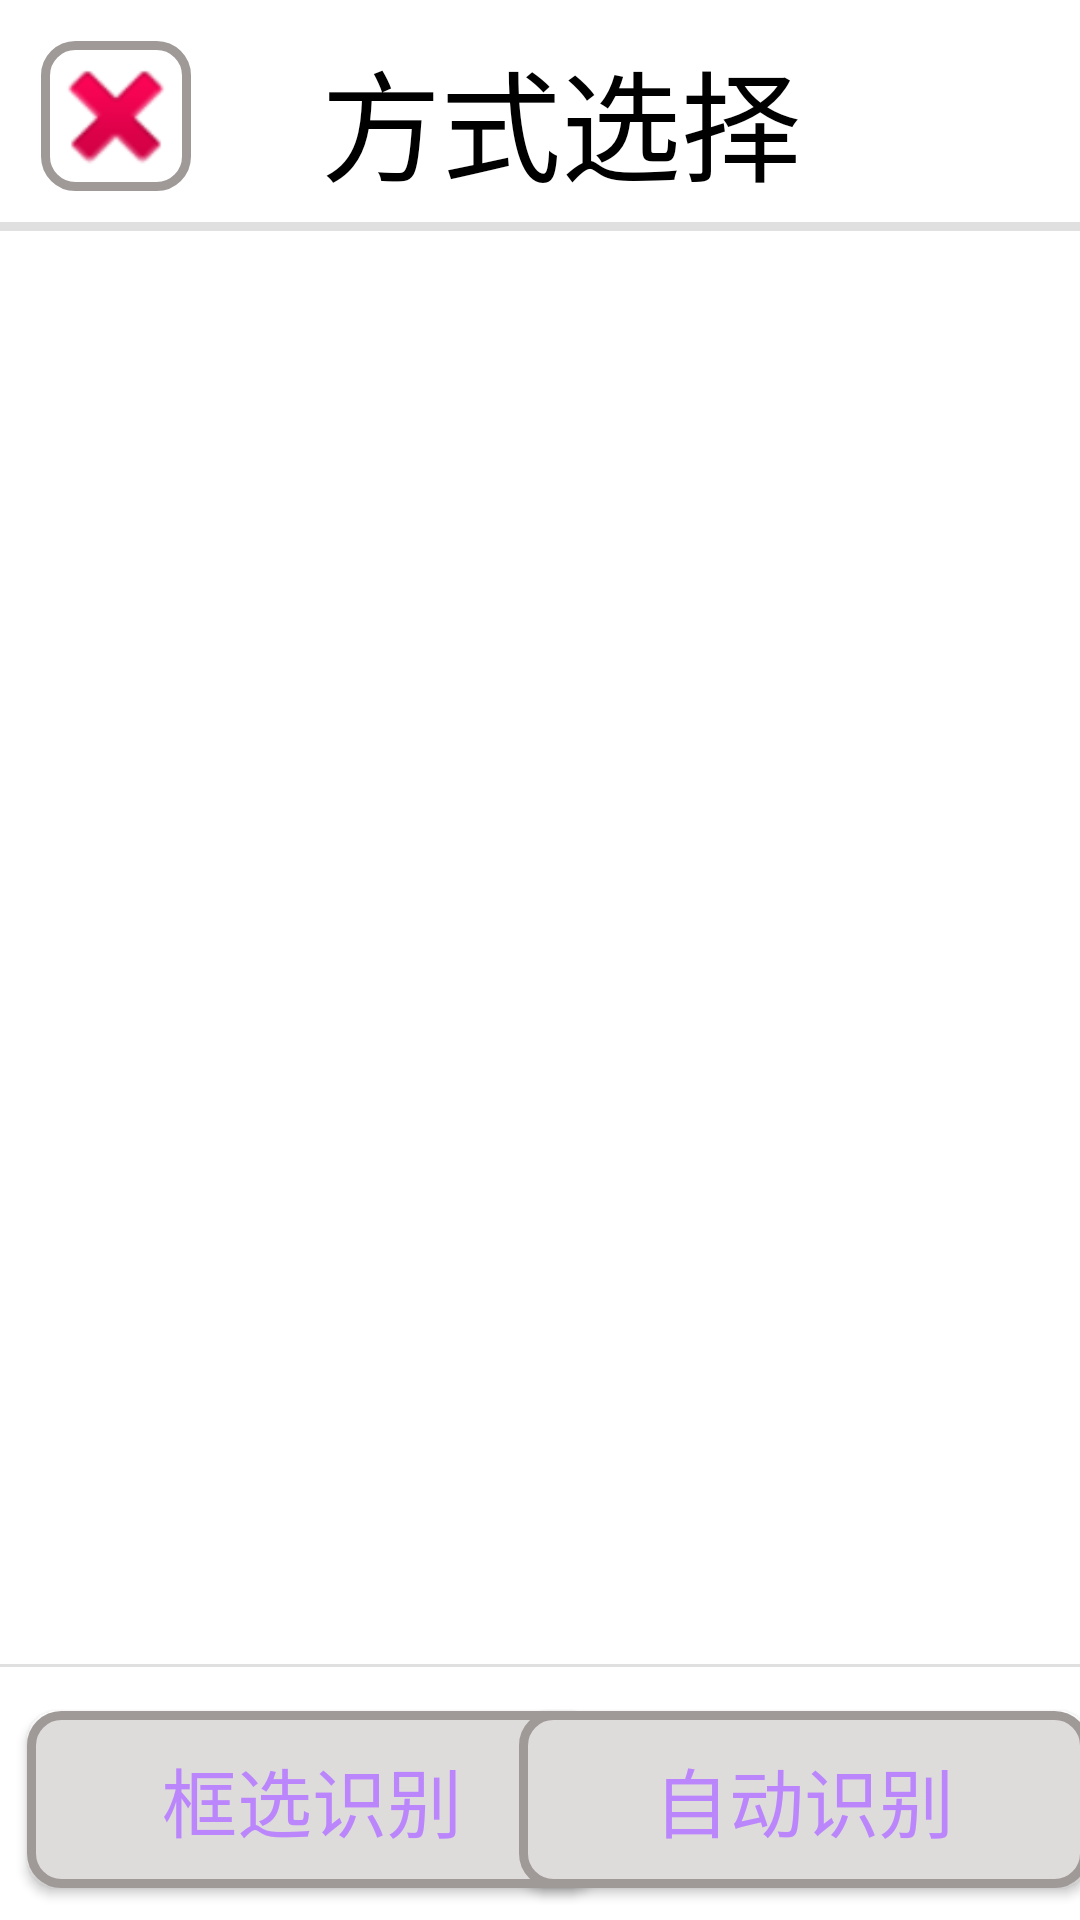

Icons on this 1080×1920 Android screen, each with the point to tap as [x,y]:
delete: [116,116]
